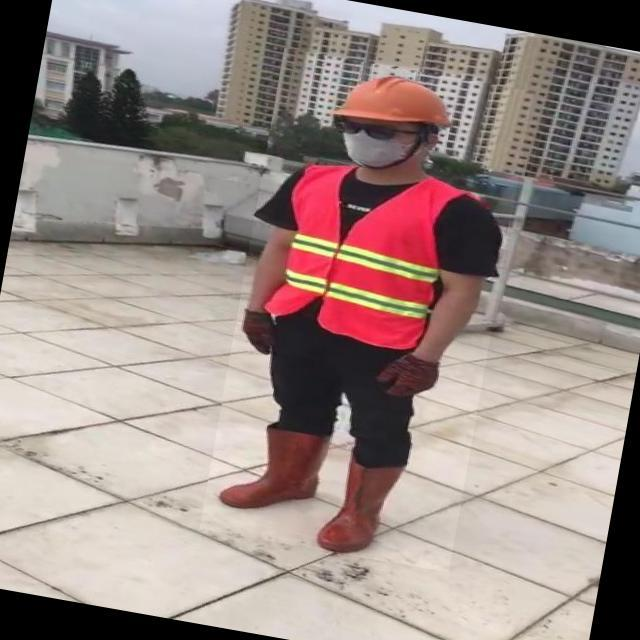Gloves: (376, 350, 445, 405), (238, 308, 283, 357)
Helmet: (330, 65, 453, 140)
Human: (200, 48, 535, 573)
Safety Boot: (221, 420, 334, 521), (318, 454, 406, 561)
Safety Vest: (263, 154, 464, 352)
